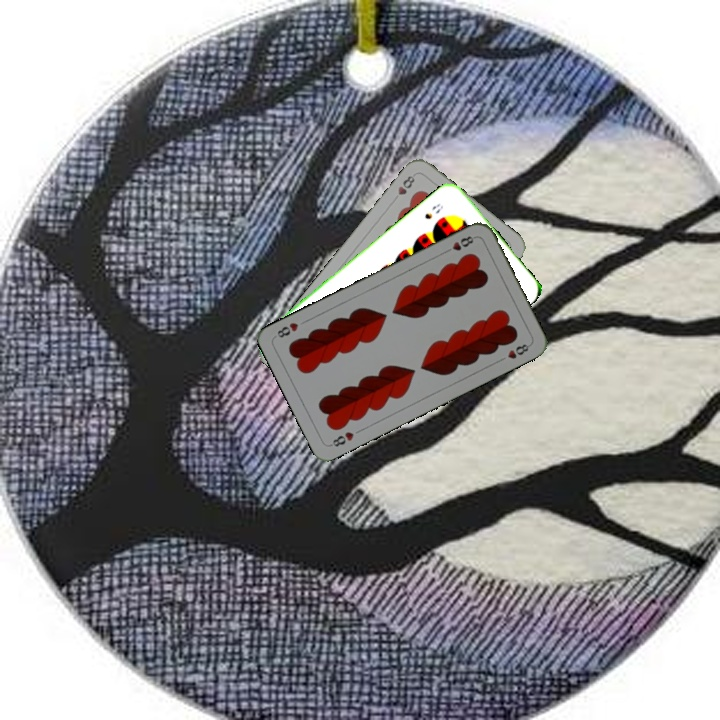H8: (389, 171, 418, 205), (440, 232, 478, 256), (326, 428, 356, 449)
S8: (420, 199, 446, 222)
